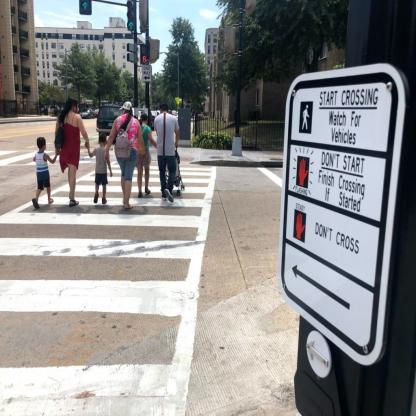Crosswalk: (0, 157, 199, 416)
Traffic Signal: (126, 5, 136, 28)
